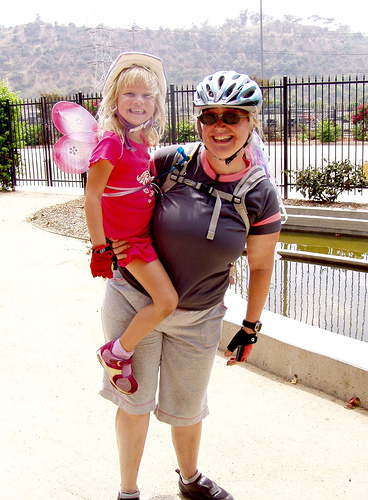without_mask: (199, 102, 259, 162), (113, 74, 162, 133)
